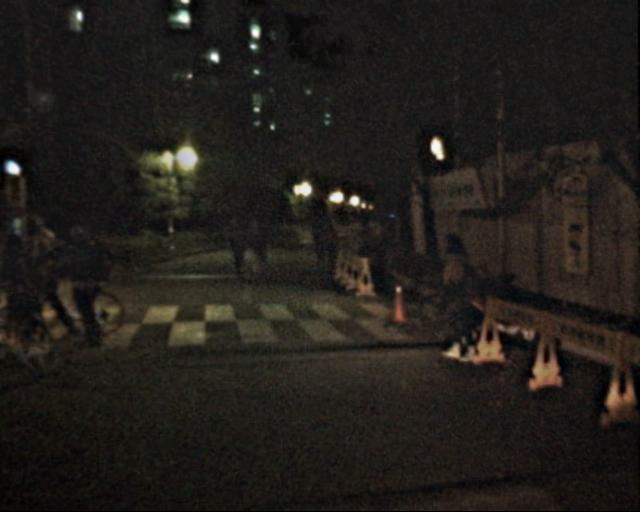person: (16, 211, 79, 341), (60, 215, 114, 346), (429, 233, 479, 356), (221, 215, 251, 278), (243, 218, 272, 280), (307, 219, 327, 267), (317, 220, 336, 267)
